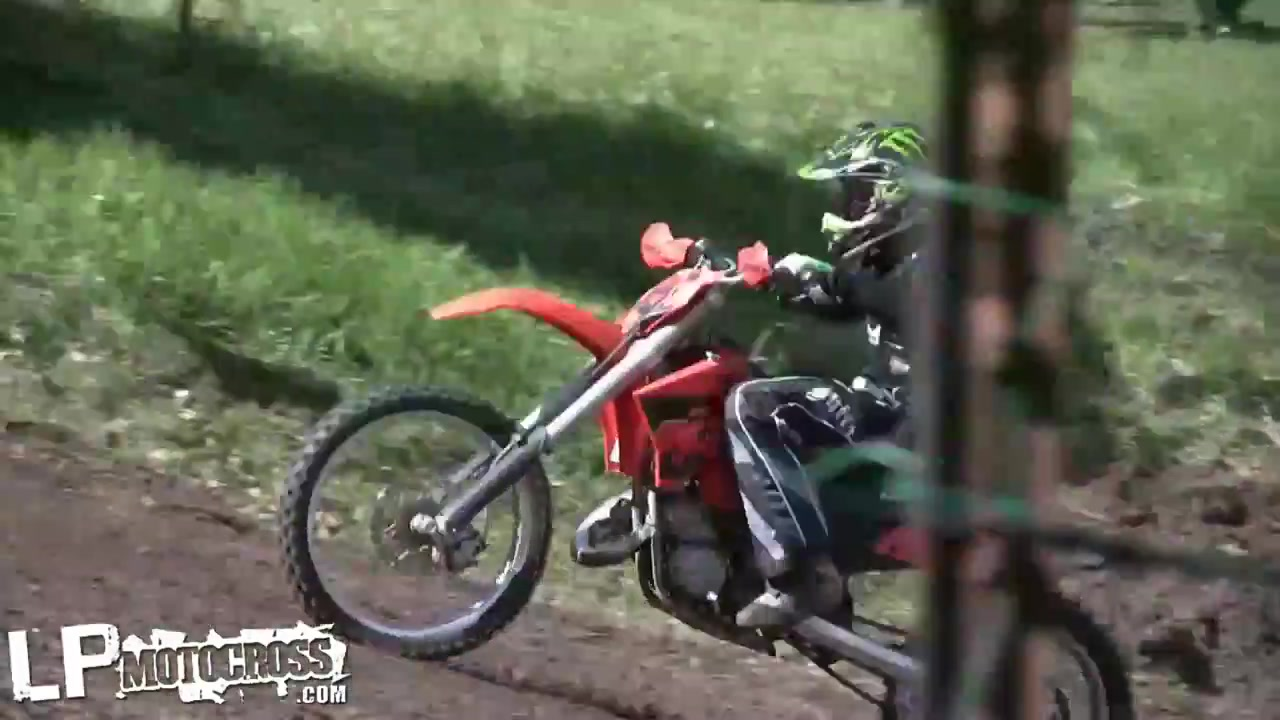motorbike: (284, 222, 1135, 720)
